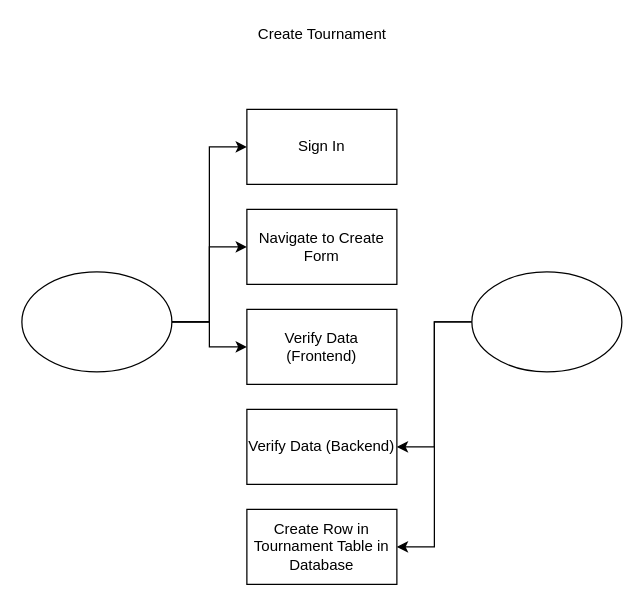
The diagram is 644 pixels wide and 606 high, and some of its shapes have lost their labels. Each missing label, with the box of its shape:
Backend: (471, 271, 622, 372)
Manager: (21, 271, 172, 372)
